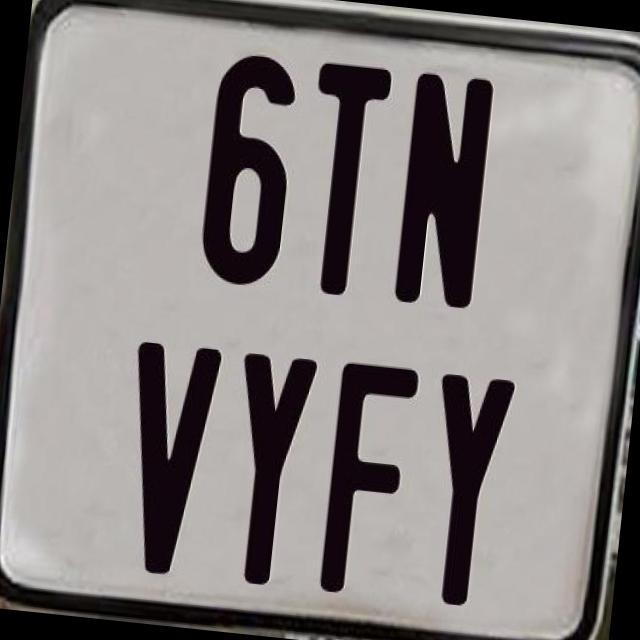6: (196, 50, 300, 298)
F: (318, 356, 421, 598)
N: (389, 69, 498, 309)
T: (294, 61, 391, 306)
V: (110, 340, 222, 587)
Y: (414, 371, 514, 613), (217, 348, 316, 584)
